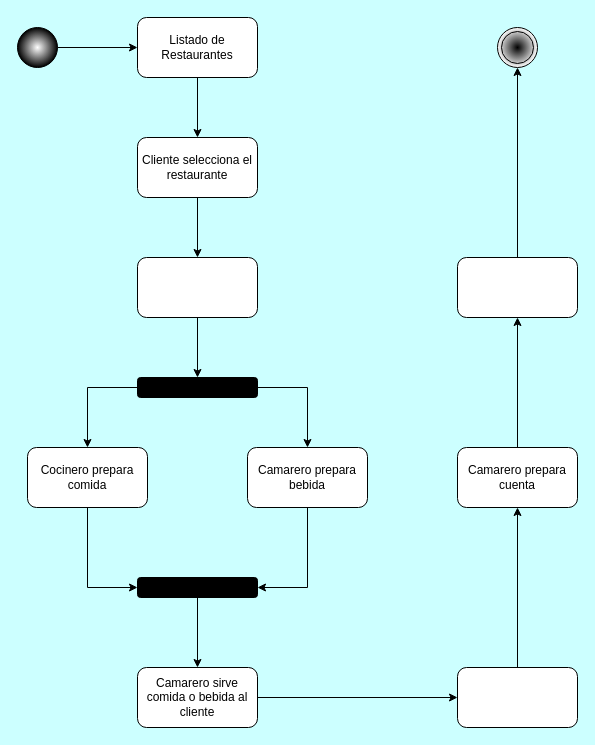
The diagram is 595 pixels wide and 745 high, and some of its shapes have lost their labels. Each missing label, with the centre of its shape:
"Cliente paga cuenta" belongs at (x=517, y=287).
"Cliente pide cuenta" belongs at (x=517, y=697).
"Cliente selecciona comida o bebida de la carta" belongs at (x=197, y=287).
